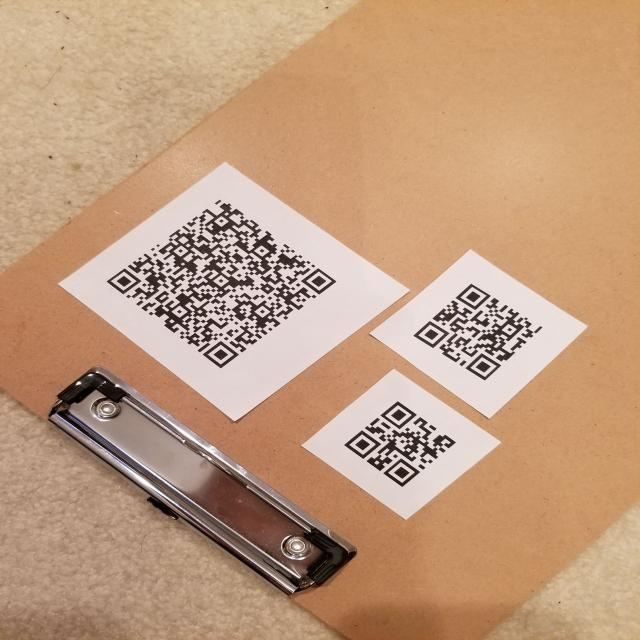qr-code: (97, 187, 352, 376), (404, 254, 558, 388), (330, 391, 464, 495)
